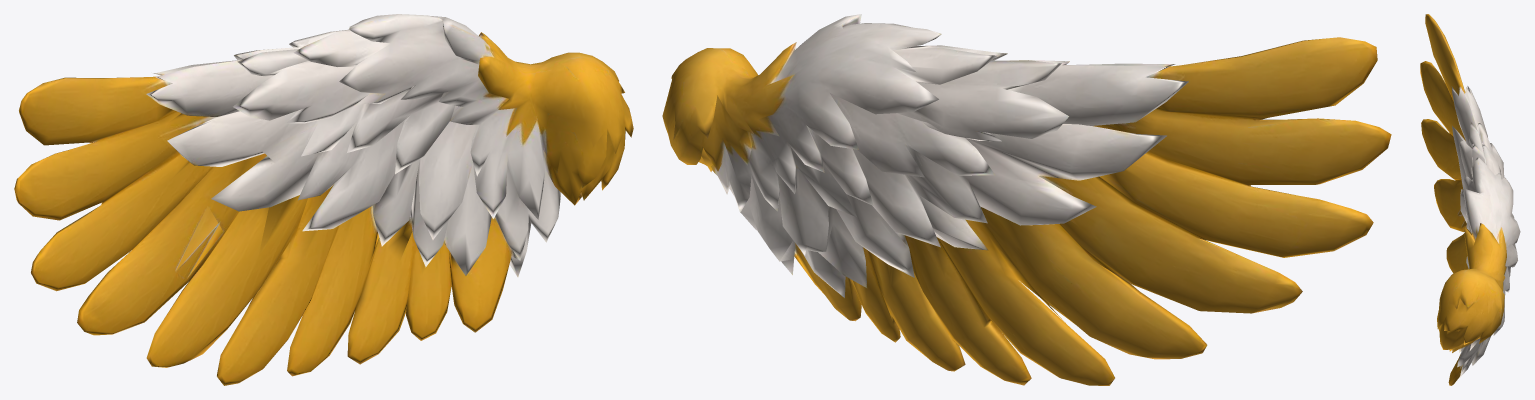
File: griffon_aile.glb
3 renders of one model, left to right at view 1: azimuth 30°, elevation 25°; view 2: azimuth 150°, elevation 25°; view 3: azimuth 270°, elevation 25°, orthographic. The views are drawn at different scales.
Bounding box in the file's own units: 0.9536 × 0.5381 × 0.2041.
1 material, 1 textured.
